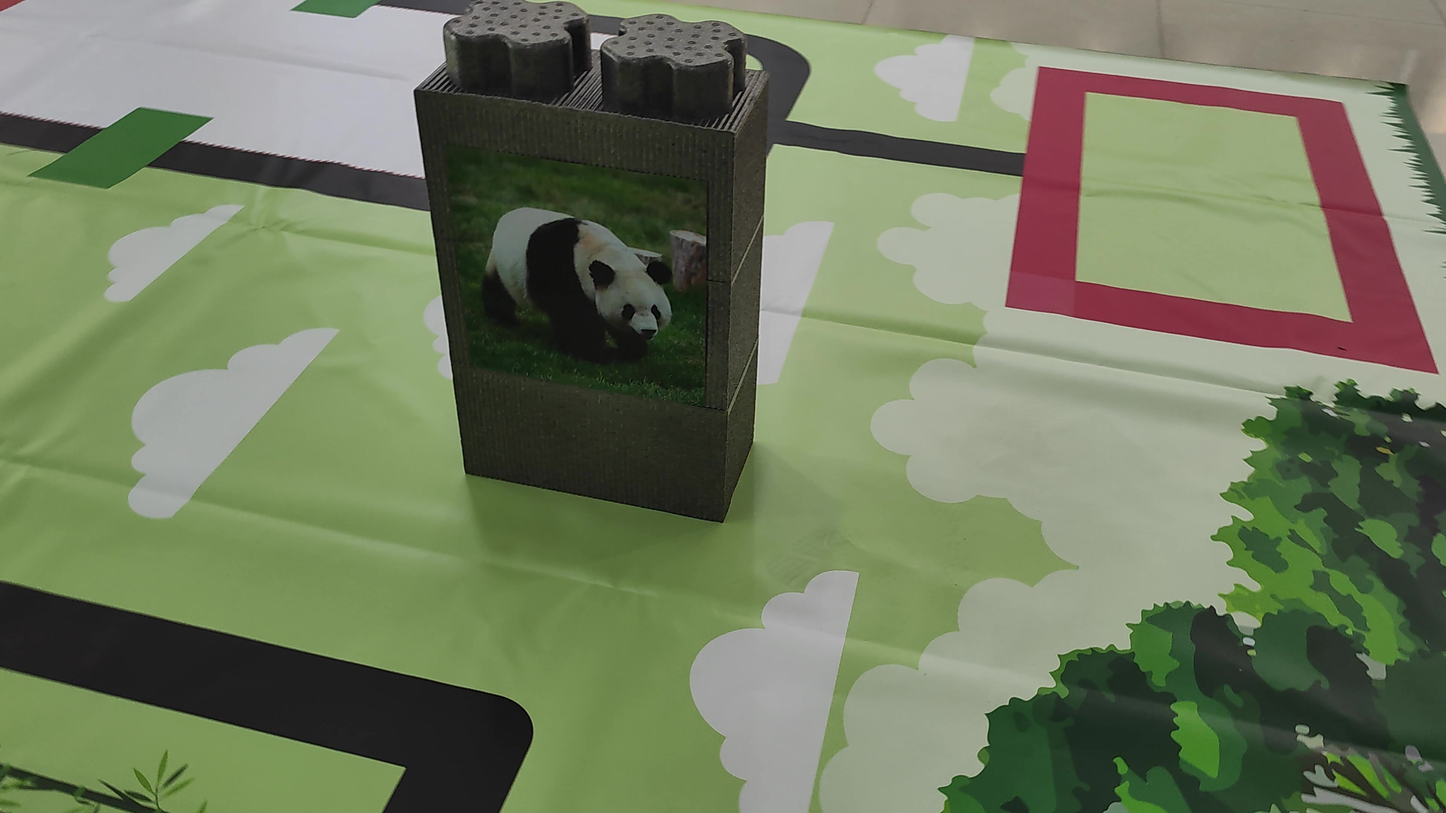panda: (478, 191, 694, 380)
